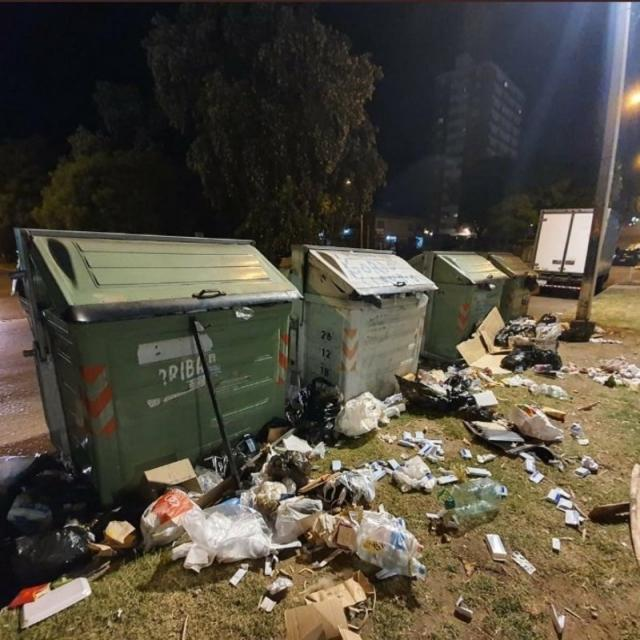garbage: (105, 451, 382, 639), (404, 360, 638, 560), (0, 451, 90, 634), (456, 298, 594, 394), (279, 383, 400, 451)
